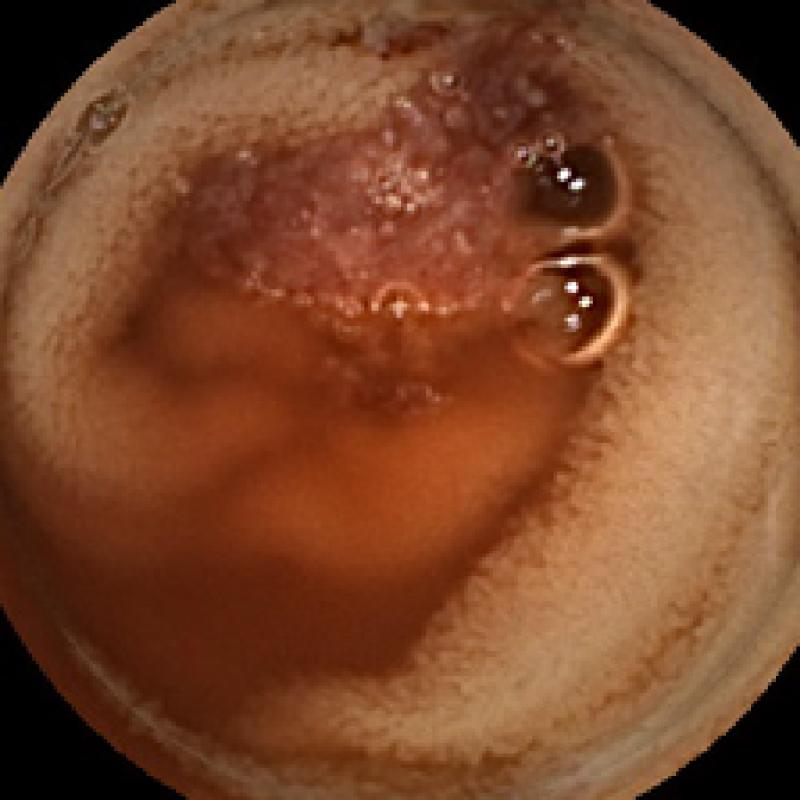bleeding: (186, 0, 618, 325)
